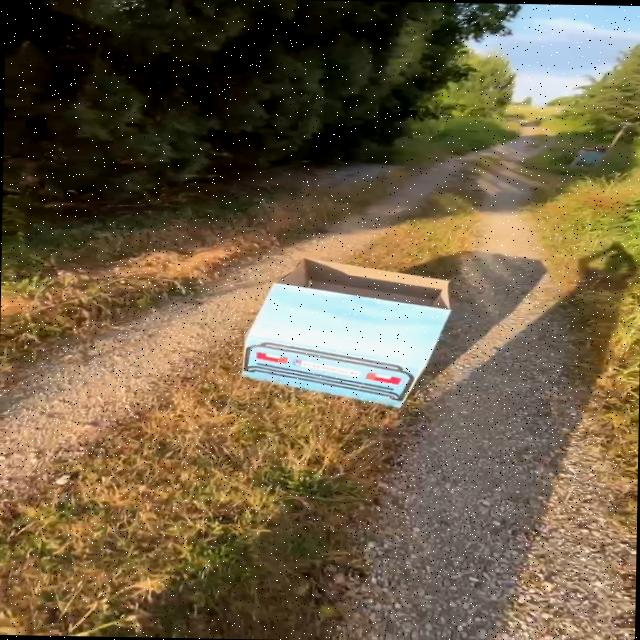blue_car: (190, 237, 494, 419)
